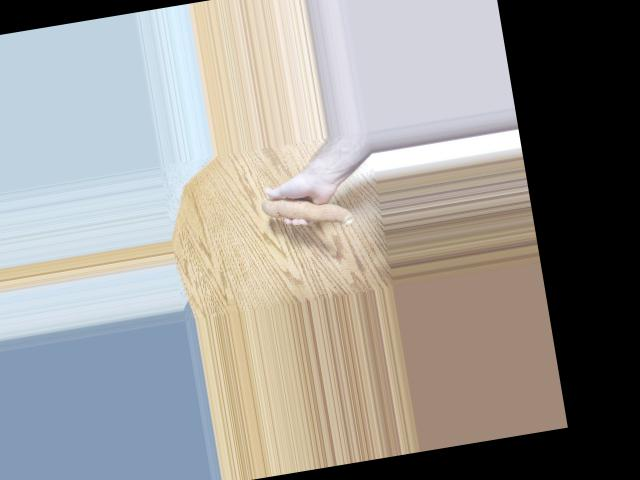sweet_potato: (259, 186, 352, 224)
